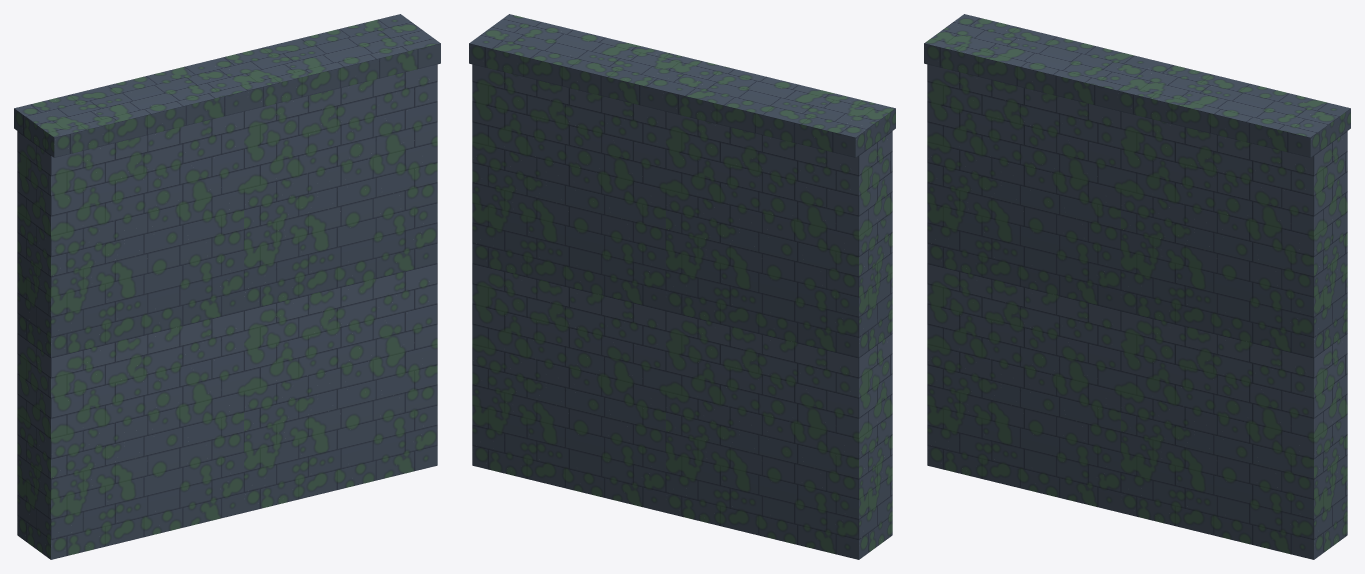
Rendered from wall_2m.obj.
3 views of the same model, side by side, from view 1: azimuth 30°, elevation 25°; view 2: azimuth 150°, elevation 25°; view 3: azimuth 330°, elevation 25° (orthographic).
Parts seen in each view (by area): view 1: wall_2m; view 2: wall_2m; view 3: wall_2m.
Boxes of the visible parts, x1,y1,x2,y2 form: wall_2m: (14, 14, 440, 559); wall_2m: (469, 14, 895, 559); wall_2m: (924, 14, 1350, 559).
Size of the model in its own units: 2 by 2.1 by 0.36.
Materials: 1 (1 with a texture image).
